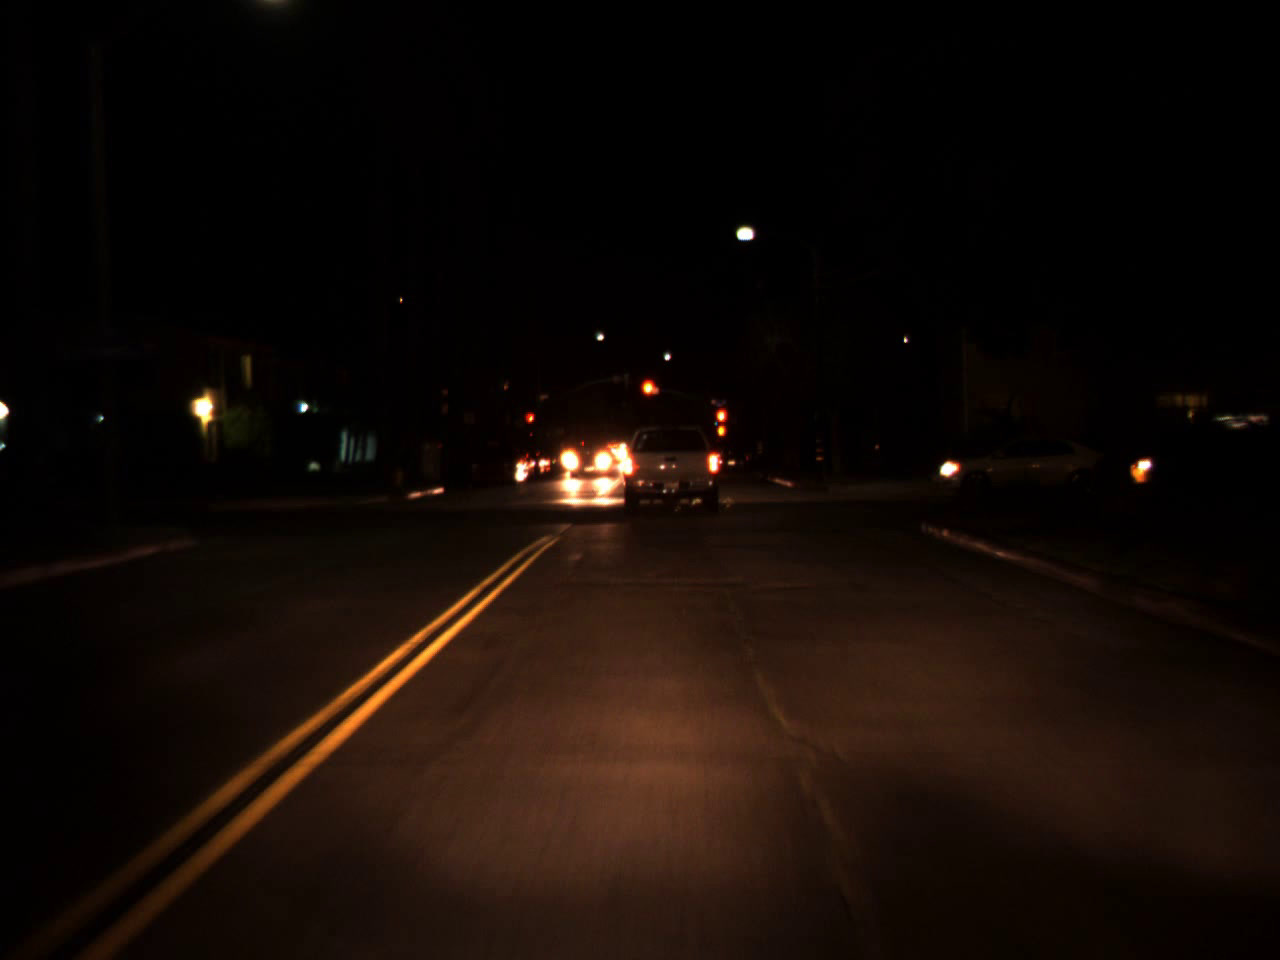stop: (639, 376, 660, 413), (715, 408, 727, 437), (525, 412, 535, 433)
